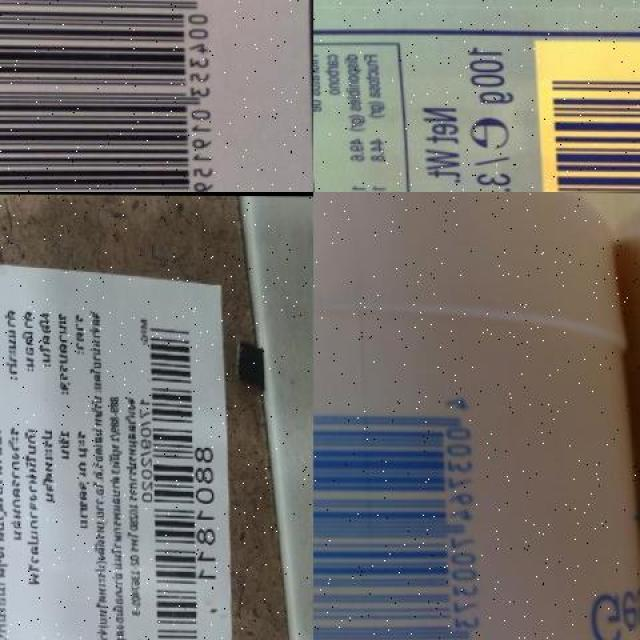Barcode: (0, 0, 279, 192), (313, 366, 507, 640), (136, 305, 221, 640), (530, 37, 640, 191)
